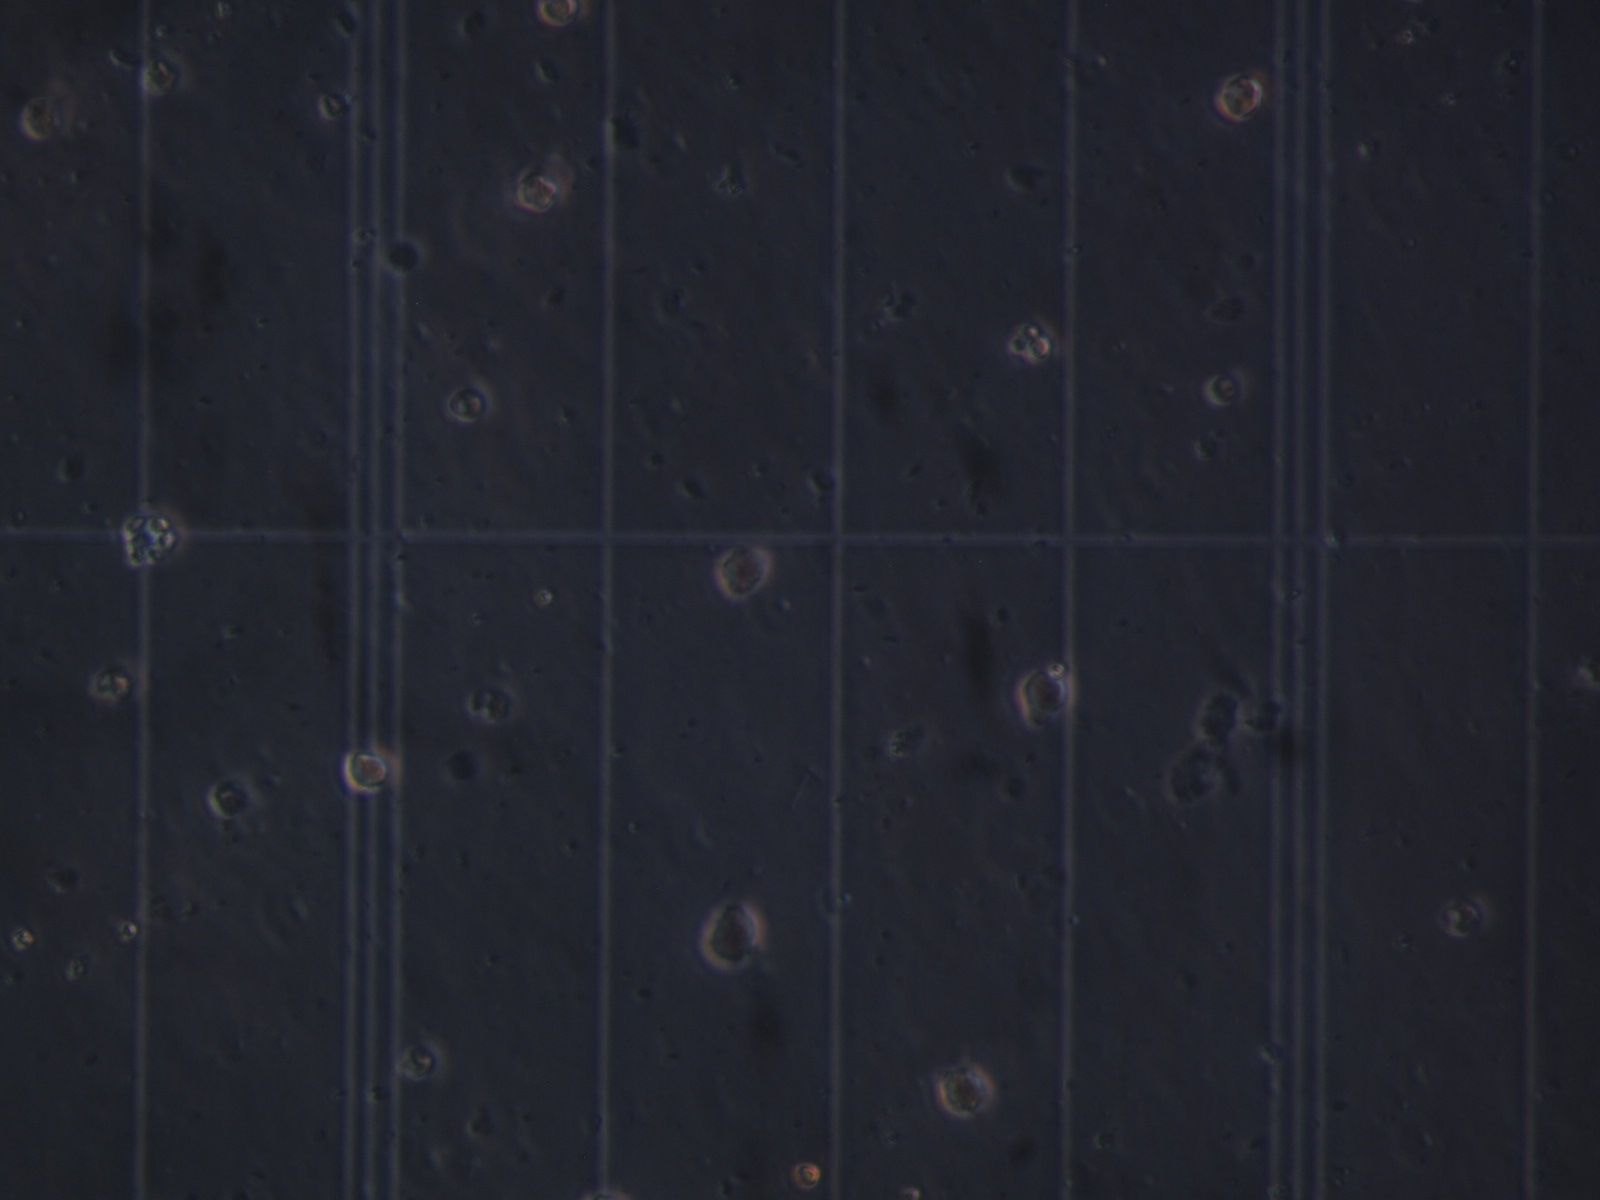hemo: (702, 897, 761, 971), (936, 1058, 997, 1121), (21, 78, 77, 140), (515, 161, 573, 213), (344, 744, 404, 792), (718, 545, 771, 599), (88, 657, 147, 705), (1019, 671, 1073, 718), (141, 45, 189, 98), (446, 376, 493, 424), (209, 775, 260, 819), (1440, 895, 1489, 937), (1203, 364, 1249, 408), (1220, 77, 1264, 122), (534, 1, 592, 26)
